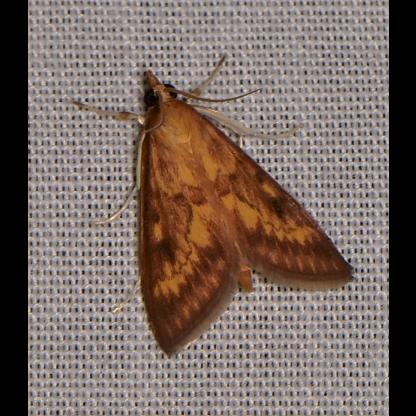Asian Corn Borer Moth: (67, 51, 358, 363)
